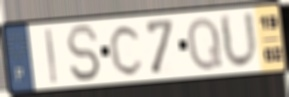7: (143, 19, 177, 78)
C: (108, 23, 146, 78)
I: (43, 26, 59, 85)
Q: (186, 15, 225, 74)
S: (64, 23, 103, 84)
U: (217, 8, 261, 72)
